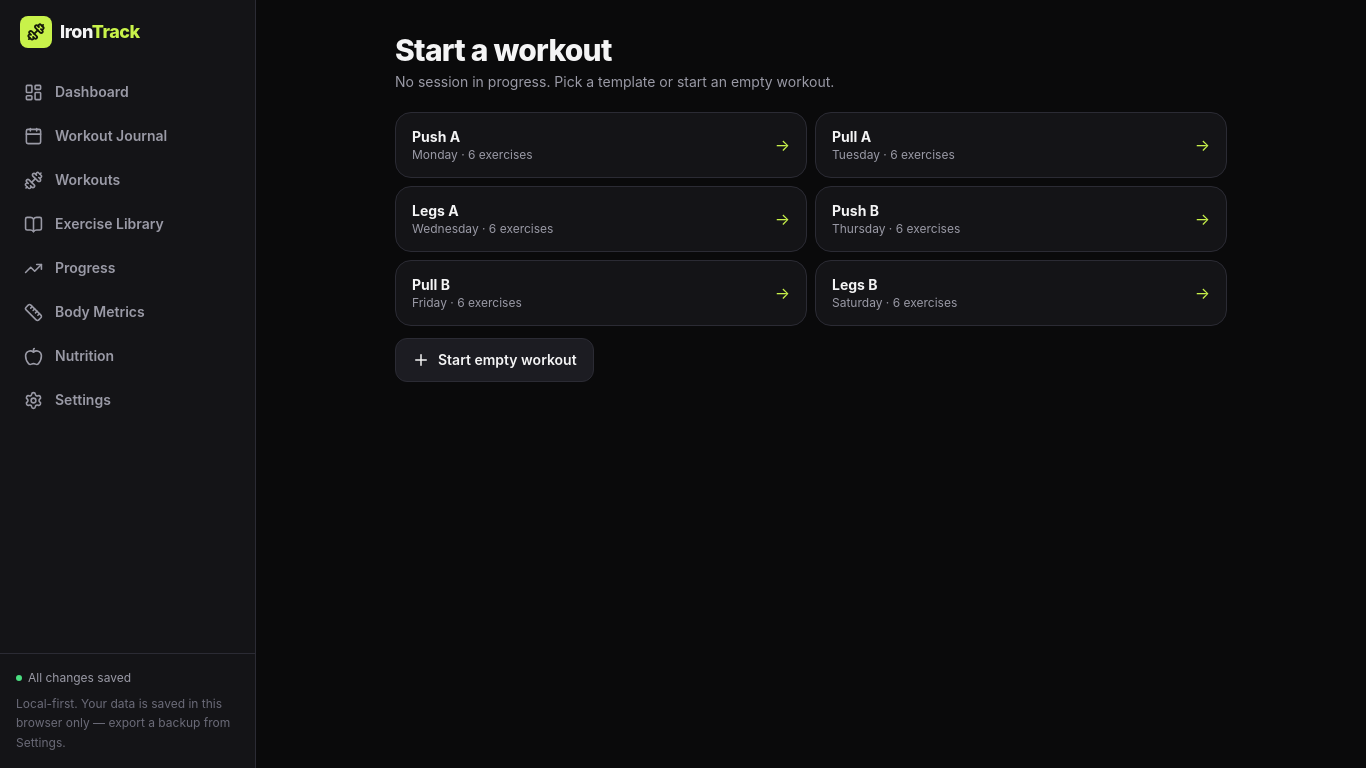
Test: IronTrack end-to-end flows › runs the core workout loop: start -> finish -> history -> detail
// Chooser appears once the store has hydrated.
Click the button "Start empty workout" at (494,360), box [395,338,594,382]
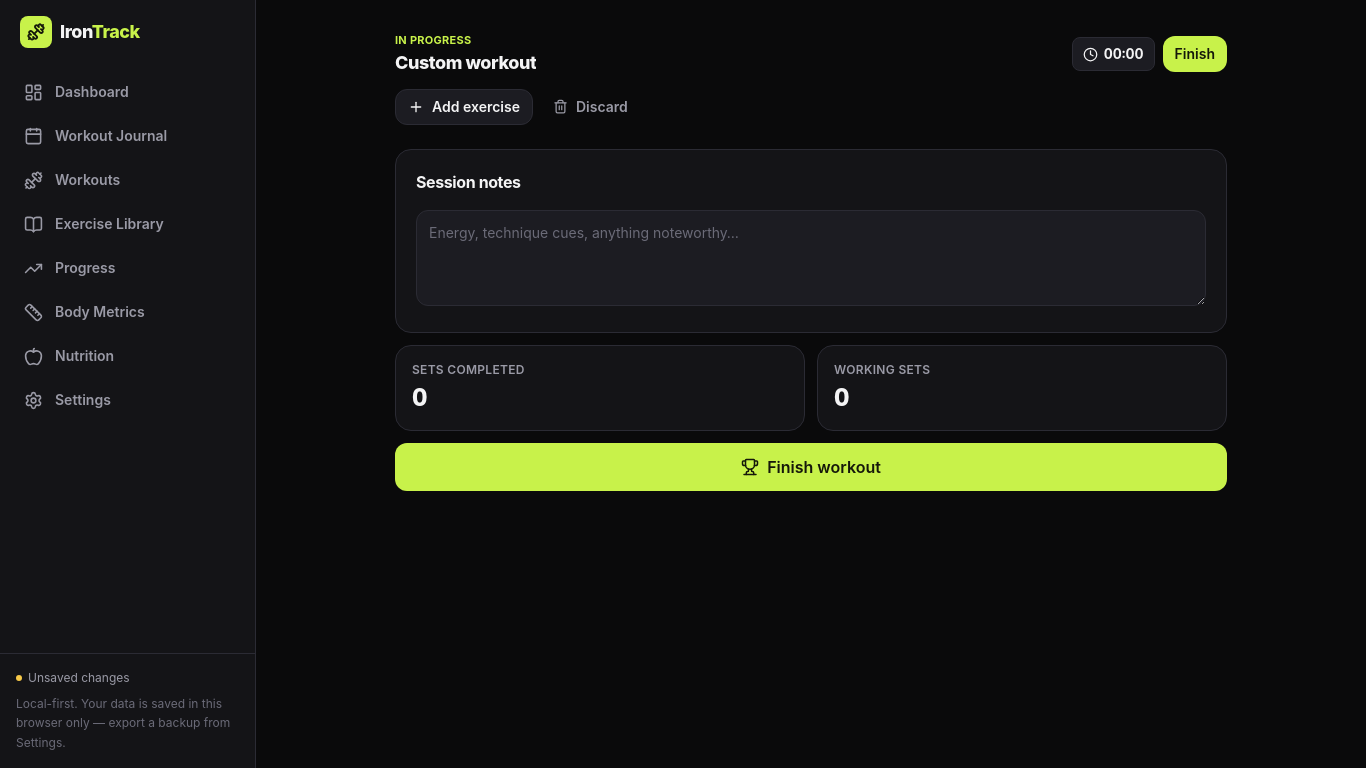
Click the button "Finish workout" at (811,466), box [395,442,1227,490]
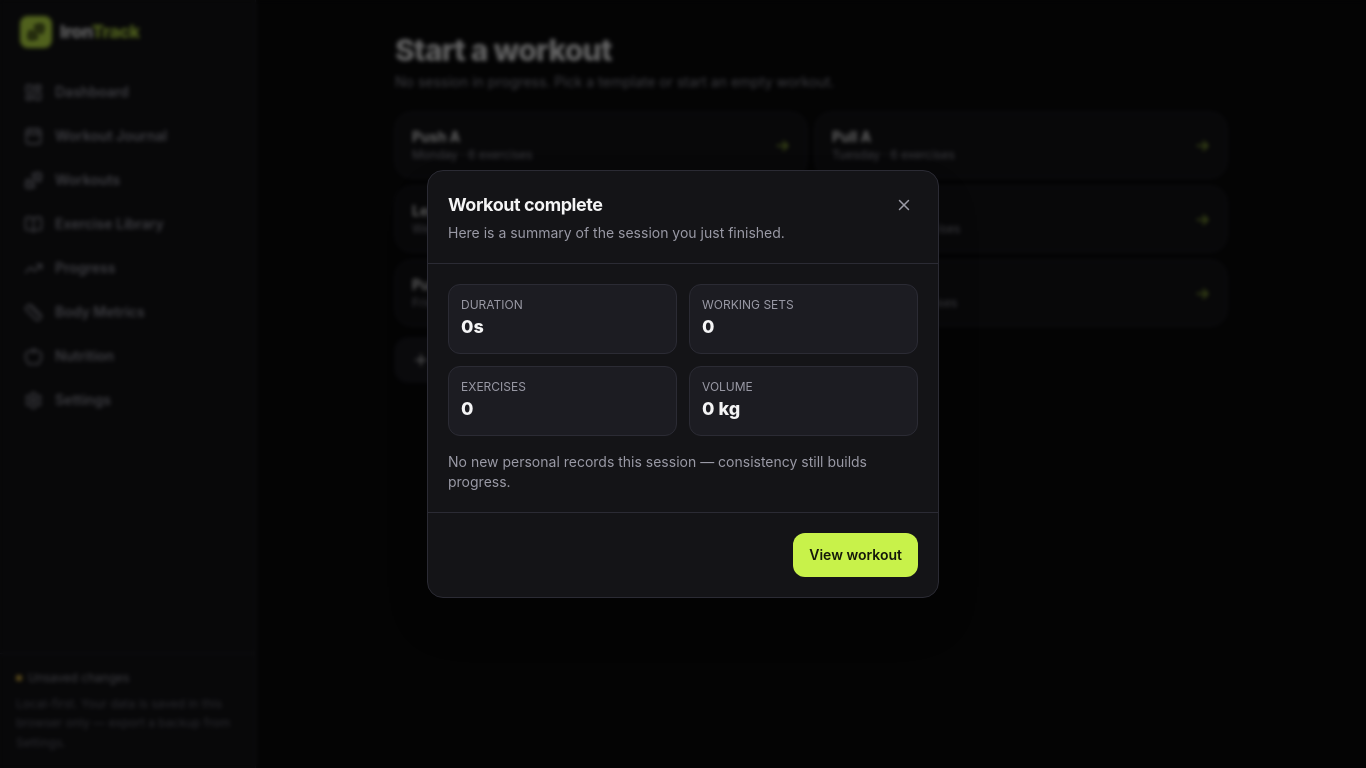
Click the button "View workout" at (856,555), box [793,533,918,577]
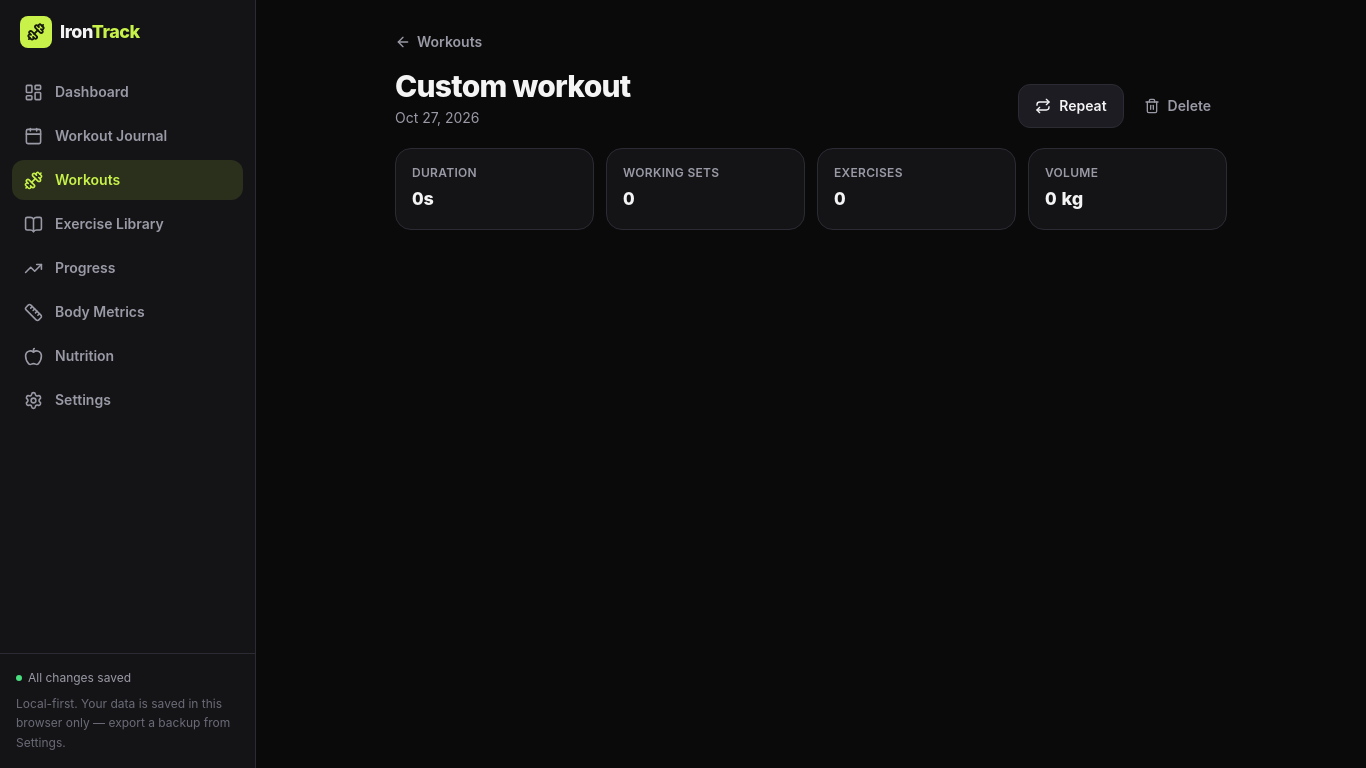
Now the heading "Custom workout" is shown, box [395,68,631,104]
